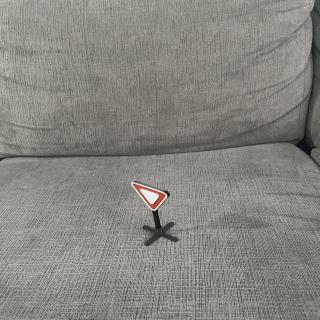sign_yield: (130, 180, 172, 214)
